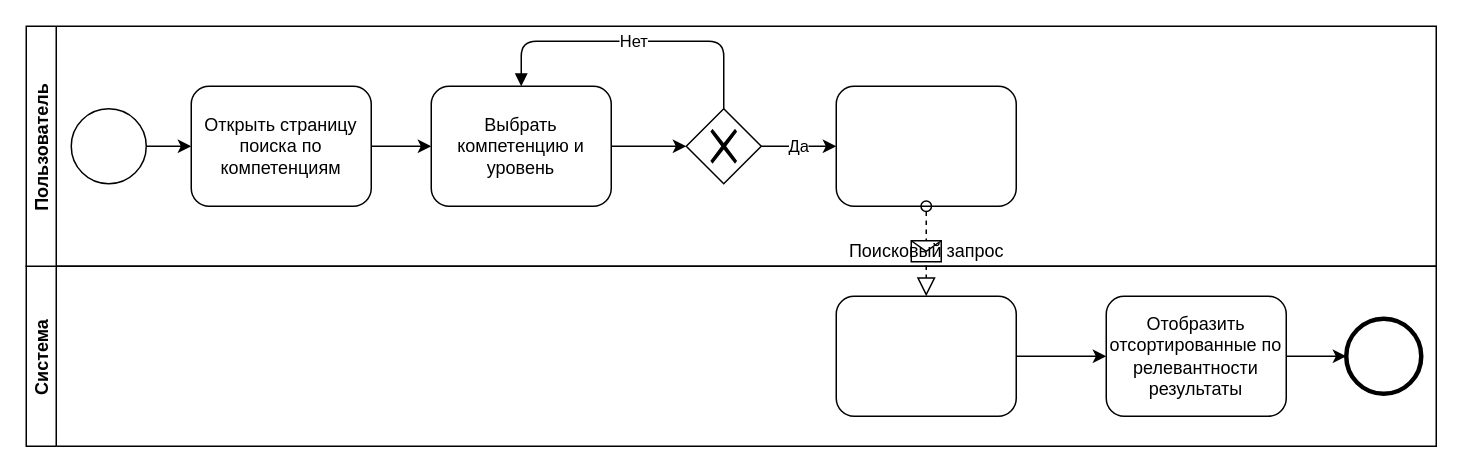
Image size: 1463x473. Some labels were removed from this diagram. Here are the shapes that lost their labels. From the top down, the centre of each, then its label:
(723,145): Все искомые компетенции указаны?
(925,145): Запустить поиск
(925,355): Осуществить поиск сотрудников
